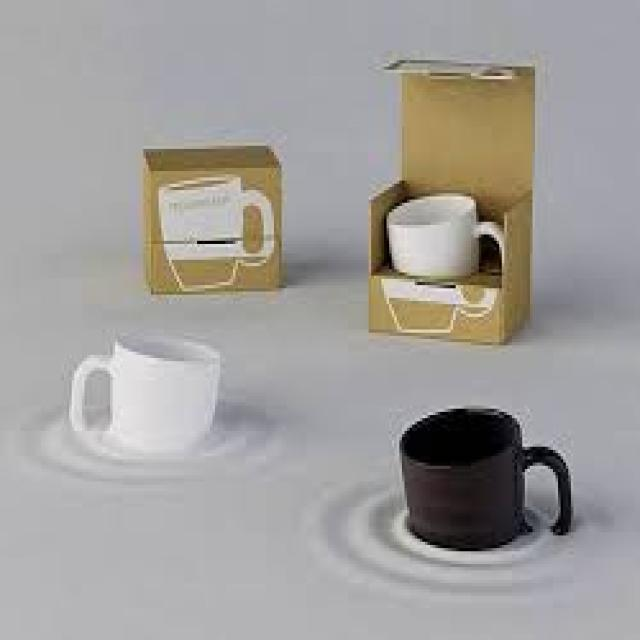taza: (387, 399, 578, 552), (59, 327, 230, 459), (383, 187, 510, 293), (160, 171, 276, 280)
